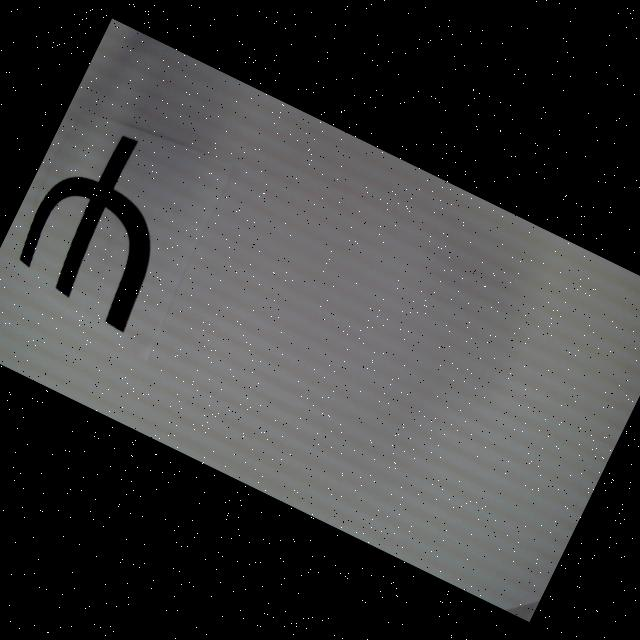PSI: (4, 114, 202, 334)
